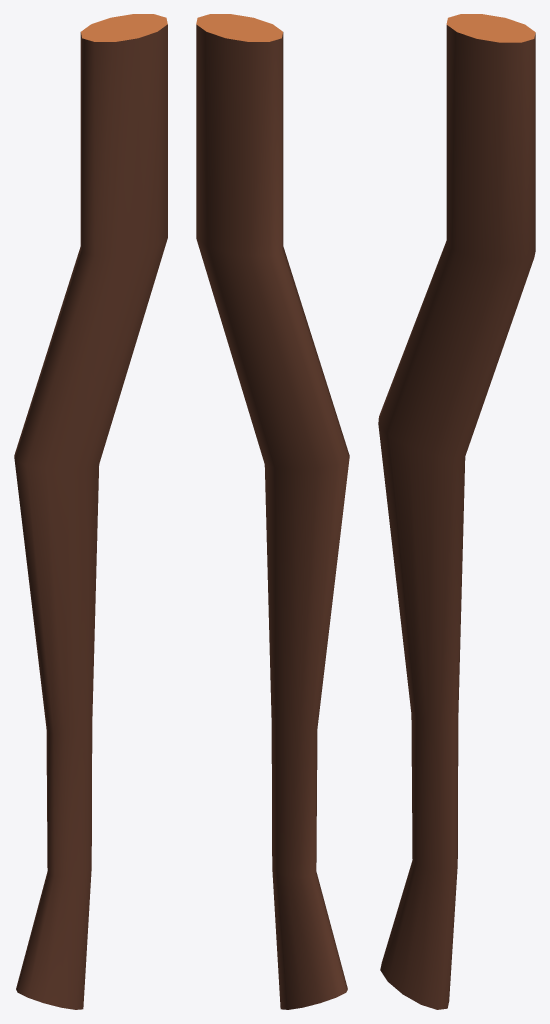
File: LumberjackAxeHandleDefault.FBX
The picture shows the model from 3 angles, left to right: view 1: azimuth 30°, elevation 25°; view 2: azimuth 150°, elevation 25°; view 3: azimuth 330°, elevation 25°; orthographic projection. The views are drawn at different scales.
Parts seen in each view (by area): view 1: LumberjackAxeHandleDefault; view 2: LumberjackAxeHandleDefault; view 3: LumberjackAxeHandleDefault.
Boxes of the visible parts, x1,y1,x2,y2 form: LumberjackAxeHandleDefault: (14, 14, 167, 1009); LumberjackAxeHandleDefault: (196, 14, 349, 1009); LumberjackAxeHandleDefault: (378, 14, 535, 1009).
Size of the model in its own units: 12.12 by 73.86 by 3.88.
